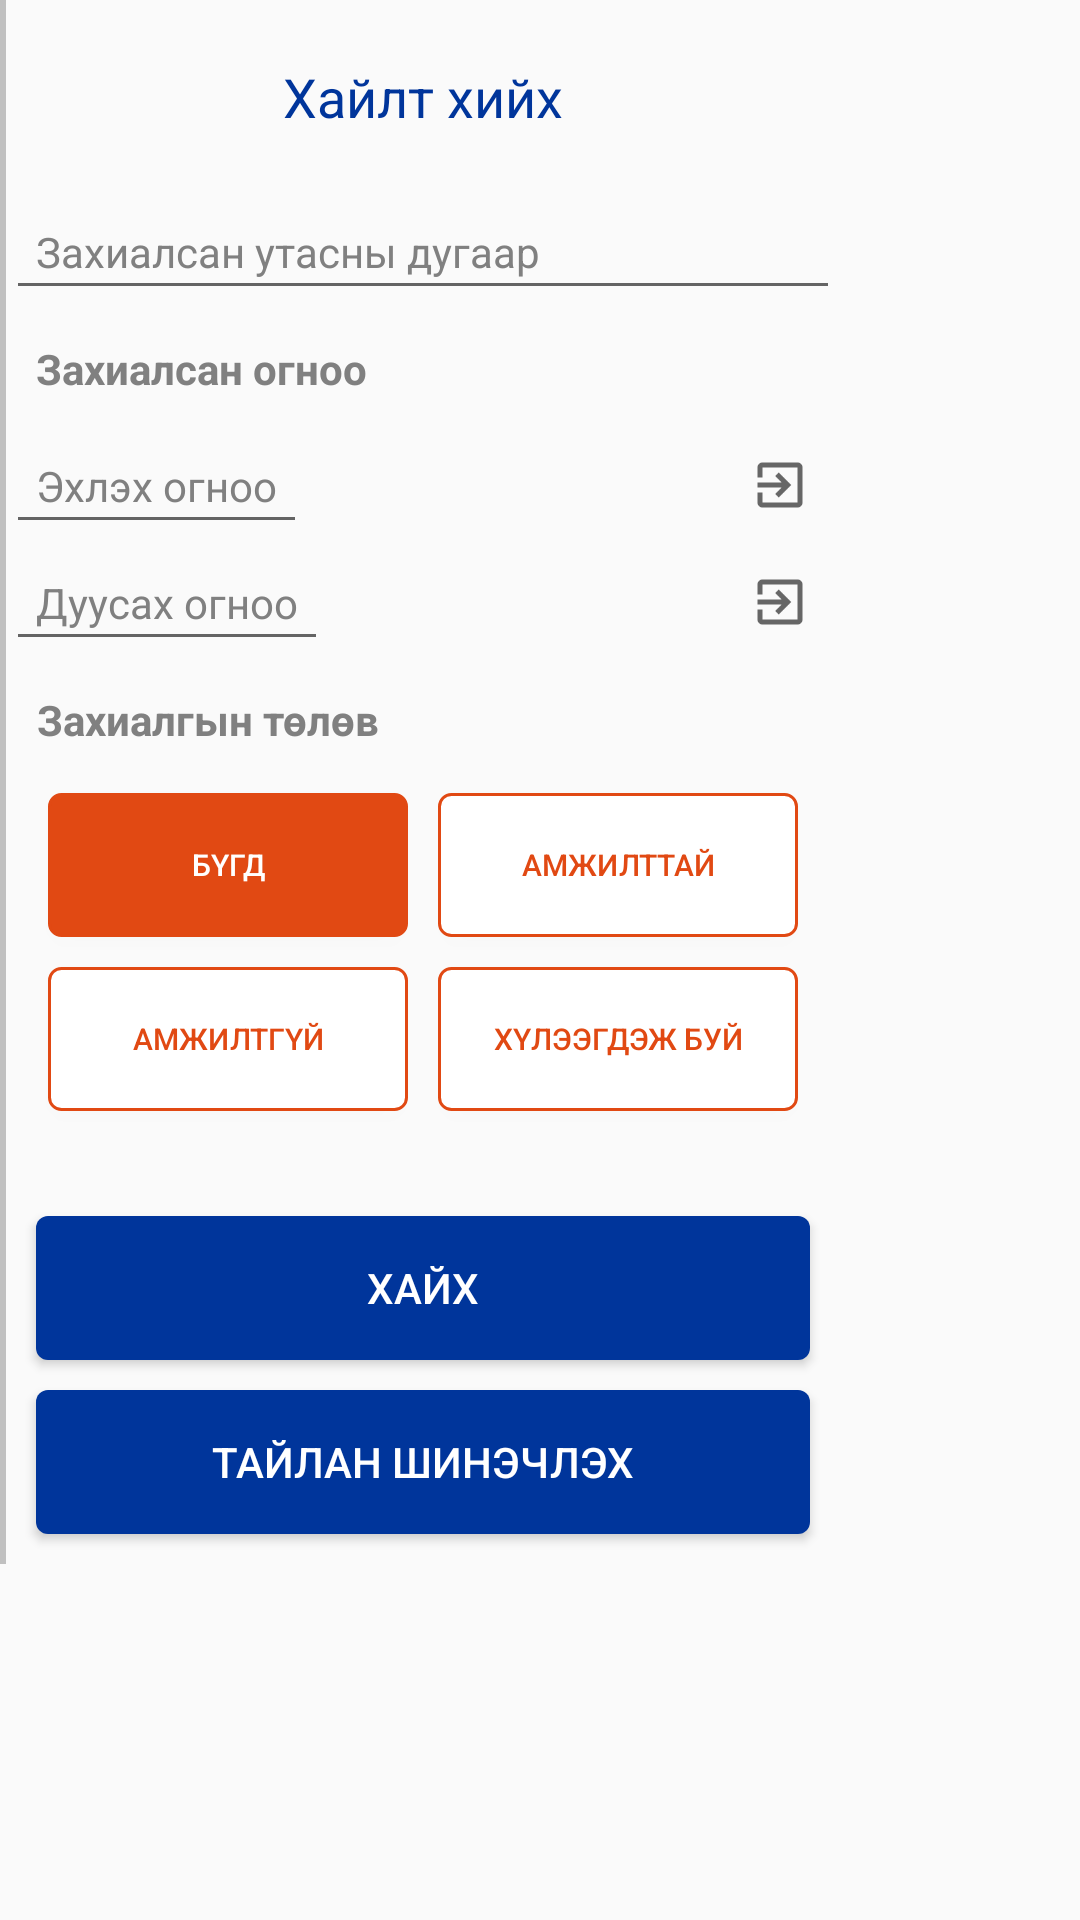

Icon bounding boxes for this 1080px x 1920px phone screenshot, format [left=x1, top=y1, right=x2, bottom=y2]:
exit: [left=757, top=462, right=803, bottom=508], [left=757, top=579, right=803, bottom=625]
